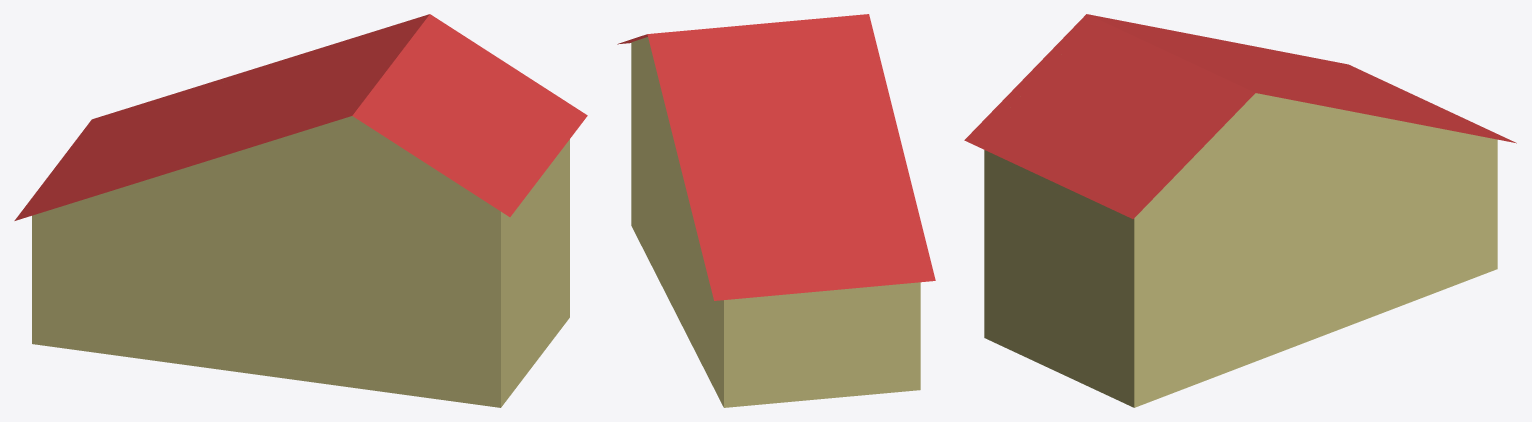
3 renders of one model, left to right at view 1: azimuth 30°, elevation 25°; view 2: azimuth 150°, elevation 25°; view 3: azimuth 270°, elevation 25°, orthographic. The views are drawn at different scales.
Size of the model in its own units: 18.85 by 19.52 by 10.76.
